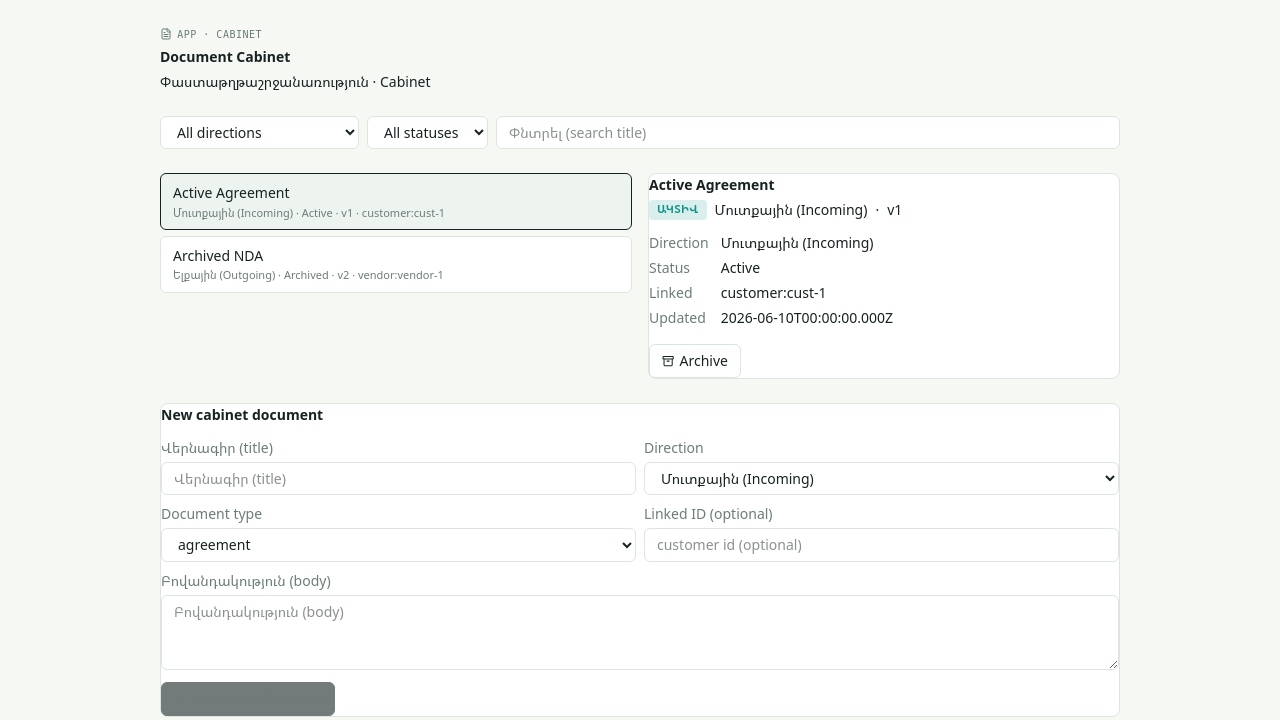
Scenario: Cabinet — list › narrows the list when typing into the search input
expect the number of buttons with test id "cabinet-list-row" is 2: met, box top-left (160, 173), bottom-right (632, 230); top-left (160, 236), bottom-right (632, 293)
Type "NDA" into the search field named "Search cabinet documents". click: (808,132)
box: top-left (496, 116), bottom-right (1120, 149)
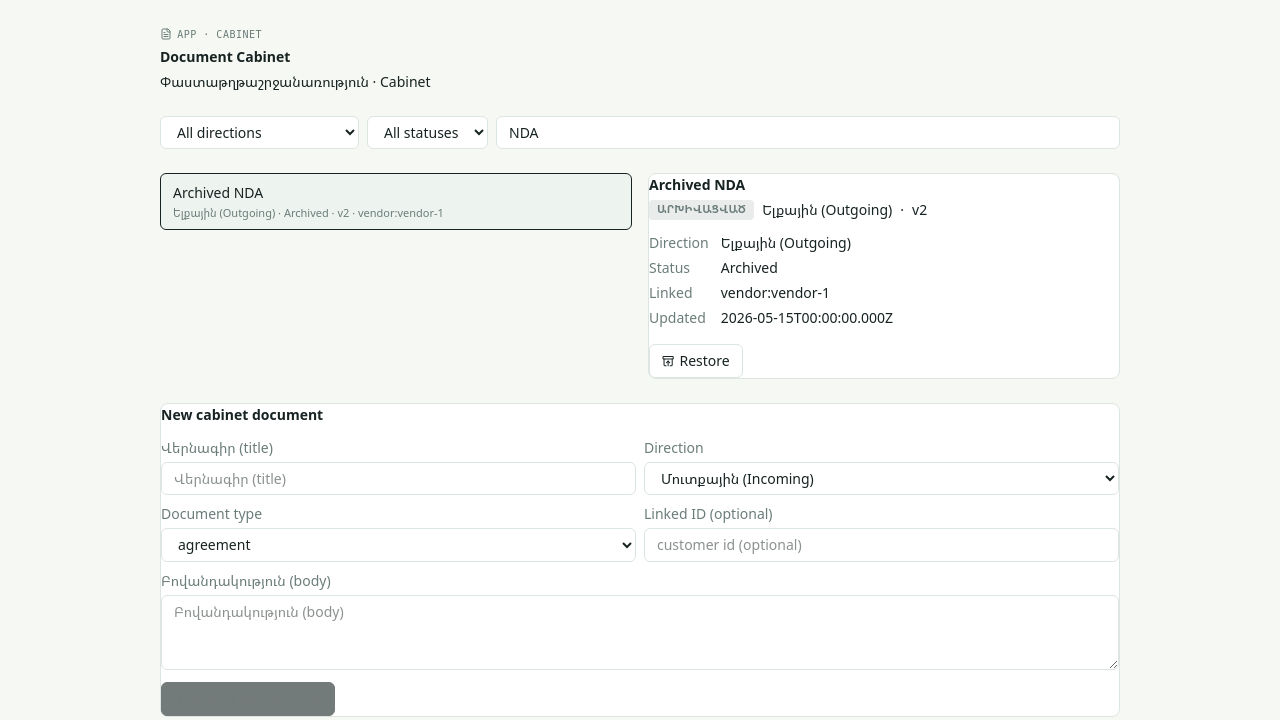
expect the button with test id "cabinet-list-row" shows "Archived NDA": met, box top-left (160, 173), bottom-right (632, 230)
expect the number of buttons with test id "cabinet-list-row" is 1: met, box top-left (160, 173), bottom-right (632, 230)
